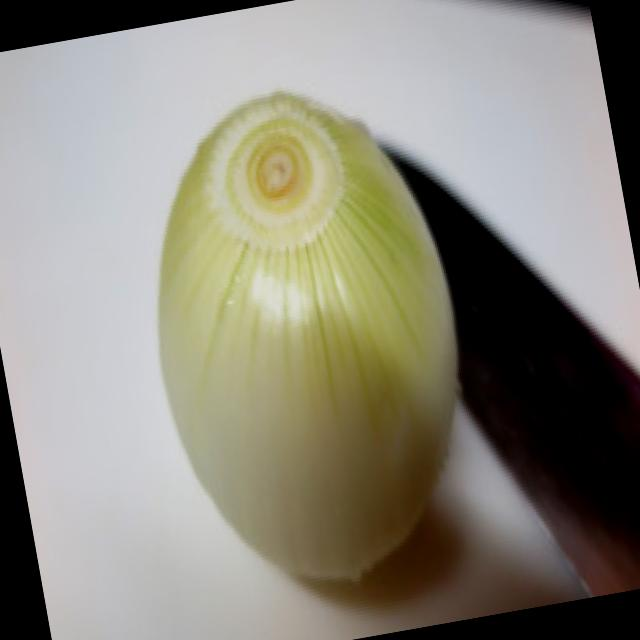orange: (97, 32, 534, 640)
